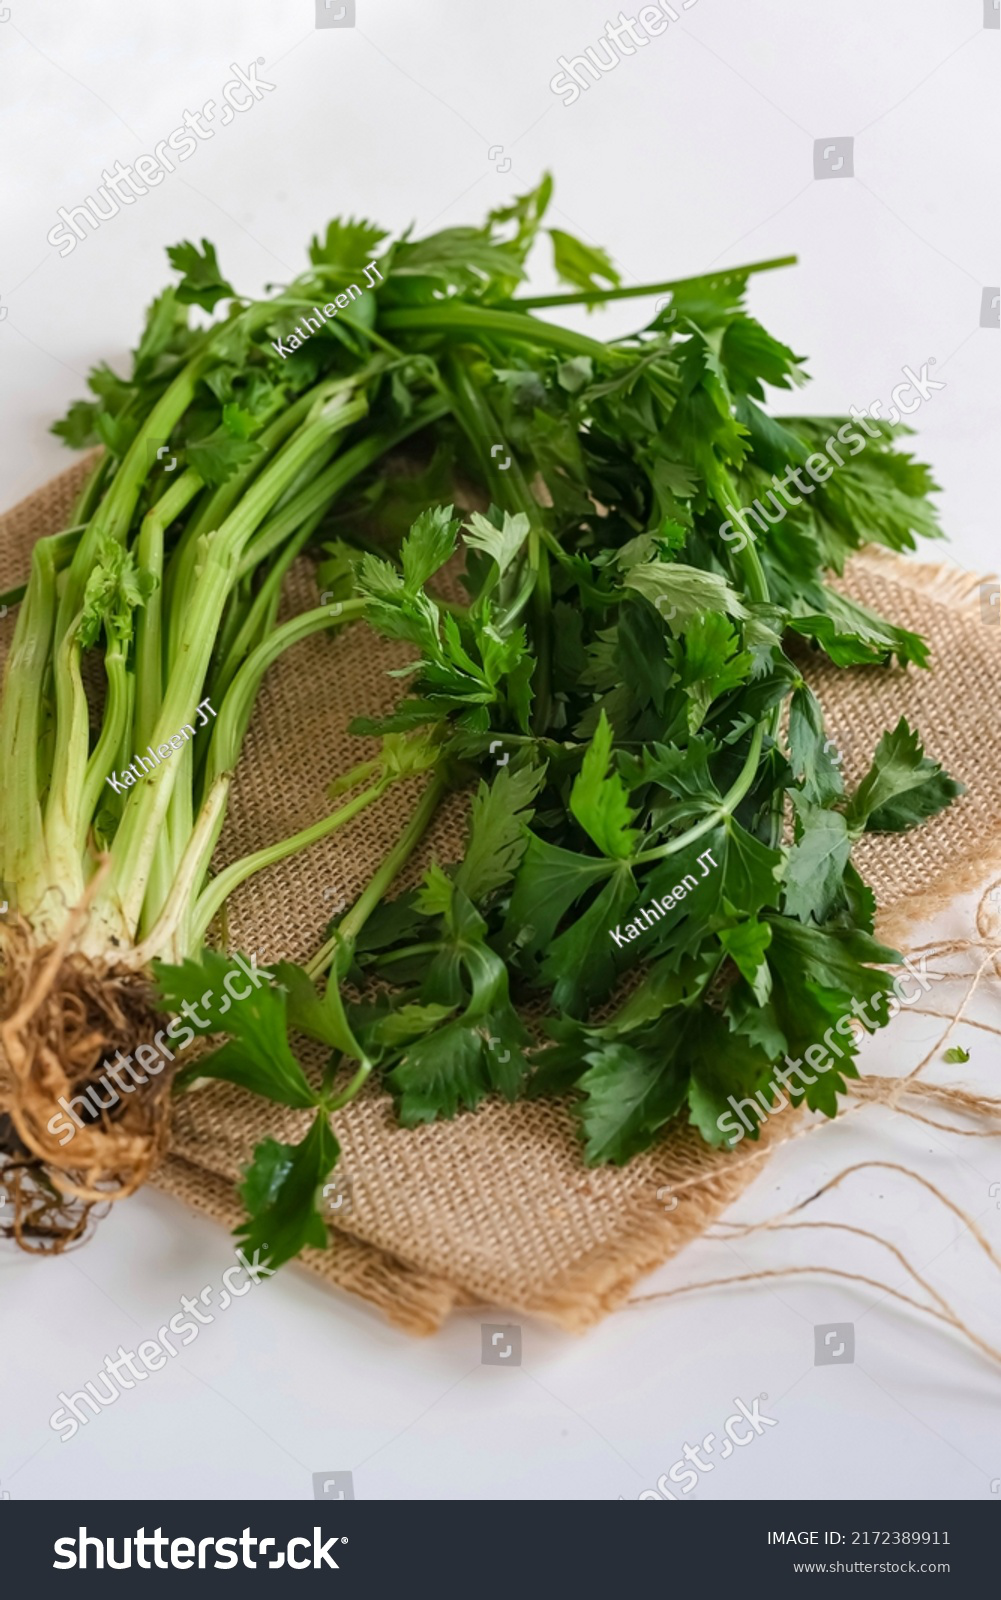Seledri: (50, 186, 1000, 1221)
